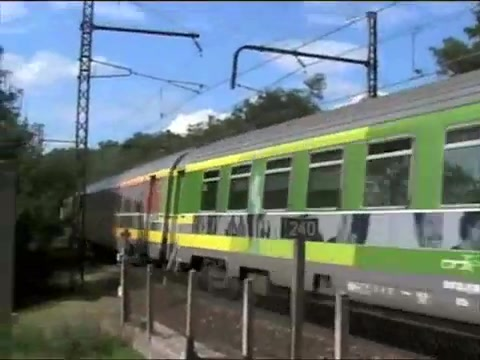train: (57, 70, 480, 342)
